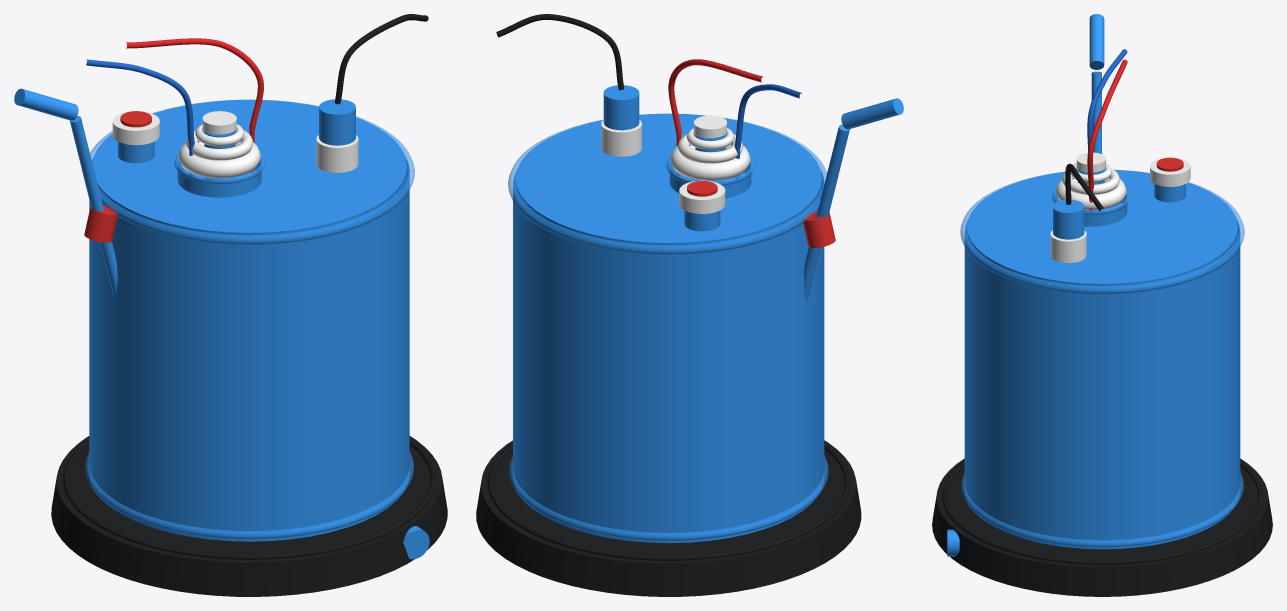
File: kf-cell.glb
The picture shows the model from 3 angles, left to right: view 1: azimuth 30°, elevation 25°; view 2: azimuth 150°, elevation 25°; view 3: azimuth 270°, elevation 25°; orthographic projection. The views are drawn at different scales.
Parts seen in each view (by area): view 1: vessel, stirrer, generator, inlet, indicator, septum, dryer, anode, cathode; view 2: vessel, stirrer, indicator, inlet, generator, septum, dryer, anode, cathode; view 3: vessel, stirrer, indicator, generator, septum, inlet, anode, dryer, cathode.
Boxes of the visible parts, x1=… form: vessel: x1=85, y1=99, x2=414, y2=541; stirrer: x1=51, y1=436, x2=447, y2=596; generator: x1=174, y1=130, x2=264, y2=197; inlet: x1=14, y1=88, x2=118, y2=298; indicator: x1=316, y1=14, x2=428, y2=172; septum: x1=112, y1=111, x2=159, y2=163; dryer: x1=195, y1=111, x2=244, y2=180; anode: x1=126, y1=38, x2=263, y2=172; cathode: x1=86, y1=59, x2=194, y2=176; vessel: x1=508, y1=113, x2=828, y2=543; stirrer: x1=476, y1=440, x2=861, y2=596; indicator: x1=496, y1=14, x2=641, y2=156; inlet: x1=802, y1=98, x2=903, y2=301; generator: x1=666, y1=134, x2=754, y2=198; septum: x1=679, y1=180, x2=725, y2=231; dryer: x1=686, y1=115, x2=734, y2=182; anode: x1=668, y1=59, x2=762, y2=175; cathode: x1=734, y1=84, x2=802, y2=179; vessel: x1=960, y1=169, x2=1244, y2=549; stirrer: x1=932, y1=458, x2=1272, y2=596; indicator: x1=1050, y1=163, x2=1104, y2=262; generator: x1=1052, y1=168, x2=1130, y2=226; septum: x1=1150, y1=157, x2=1190, y2=202; inlet: x1=1089, y1=14, x2=1104, y2=153; anode: x1=1087, y1=59, x2=1127, y2=211; dryer: x1=1070, y1=152, x2=1112, y2=211; cathode: x1=1087, y1=49, x2=1127, y2=151.
Bounding box in the file's own units: 3.64 × 4.1 × 3.02.
